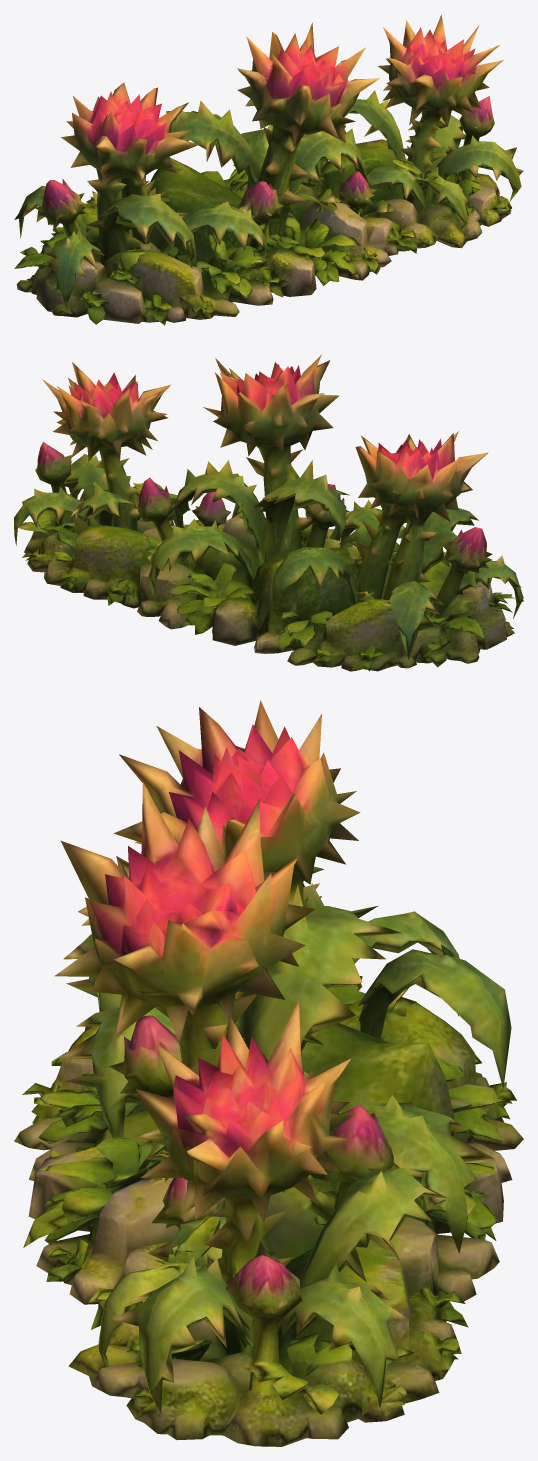
The model's file is fantasy plant 3d model.glb.
3 renders of one model, top to bottom at view 1: azimuth 30°, elevation 25°; view 2: azimuth 150°, elevation 25°; view 3: azimuth 270°, elevation 25°, orthographic. The views are drawn at different scales.
Visible parts, largest first — view 1: tripo_node_c93cc697-5301-41a6-b88f-870303d97610; view 2: tripo_node_c93cc697-5301-41a6-b88f-870303d97610; view 3: tripo_node_c93cc697-5301-41a6-b88f-870303d97610.
Boxes of the visible parts, left/top/right/bottom form: tripo_node_c93cc697-5301-41a6-b88f-870303d97610: left=14, top=14, right=523, bottom=325; tripo_node_c93cc697-5301-41a6-b88f-870303d97610: left=14, top=354, right=523, bottom=671; tripo_node_c93cc697-5301-41a6-b88f-870303d97610: left=14, top=700, right=523, bottom=1446.
Bounding box in the file's own units: 1 × 0.4473 × 0.4839.
Materials: 1 (1 with a texture image).
